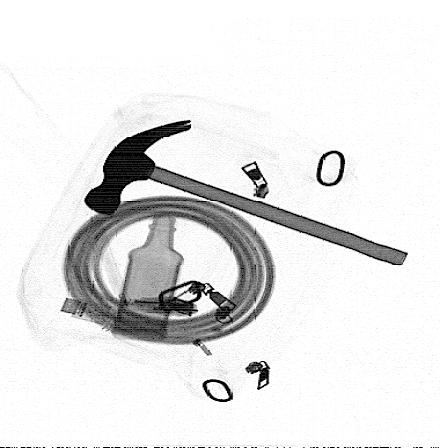Hammer: (83, 119, 410, 267)
